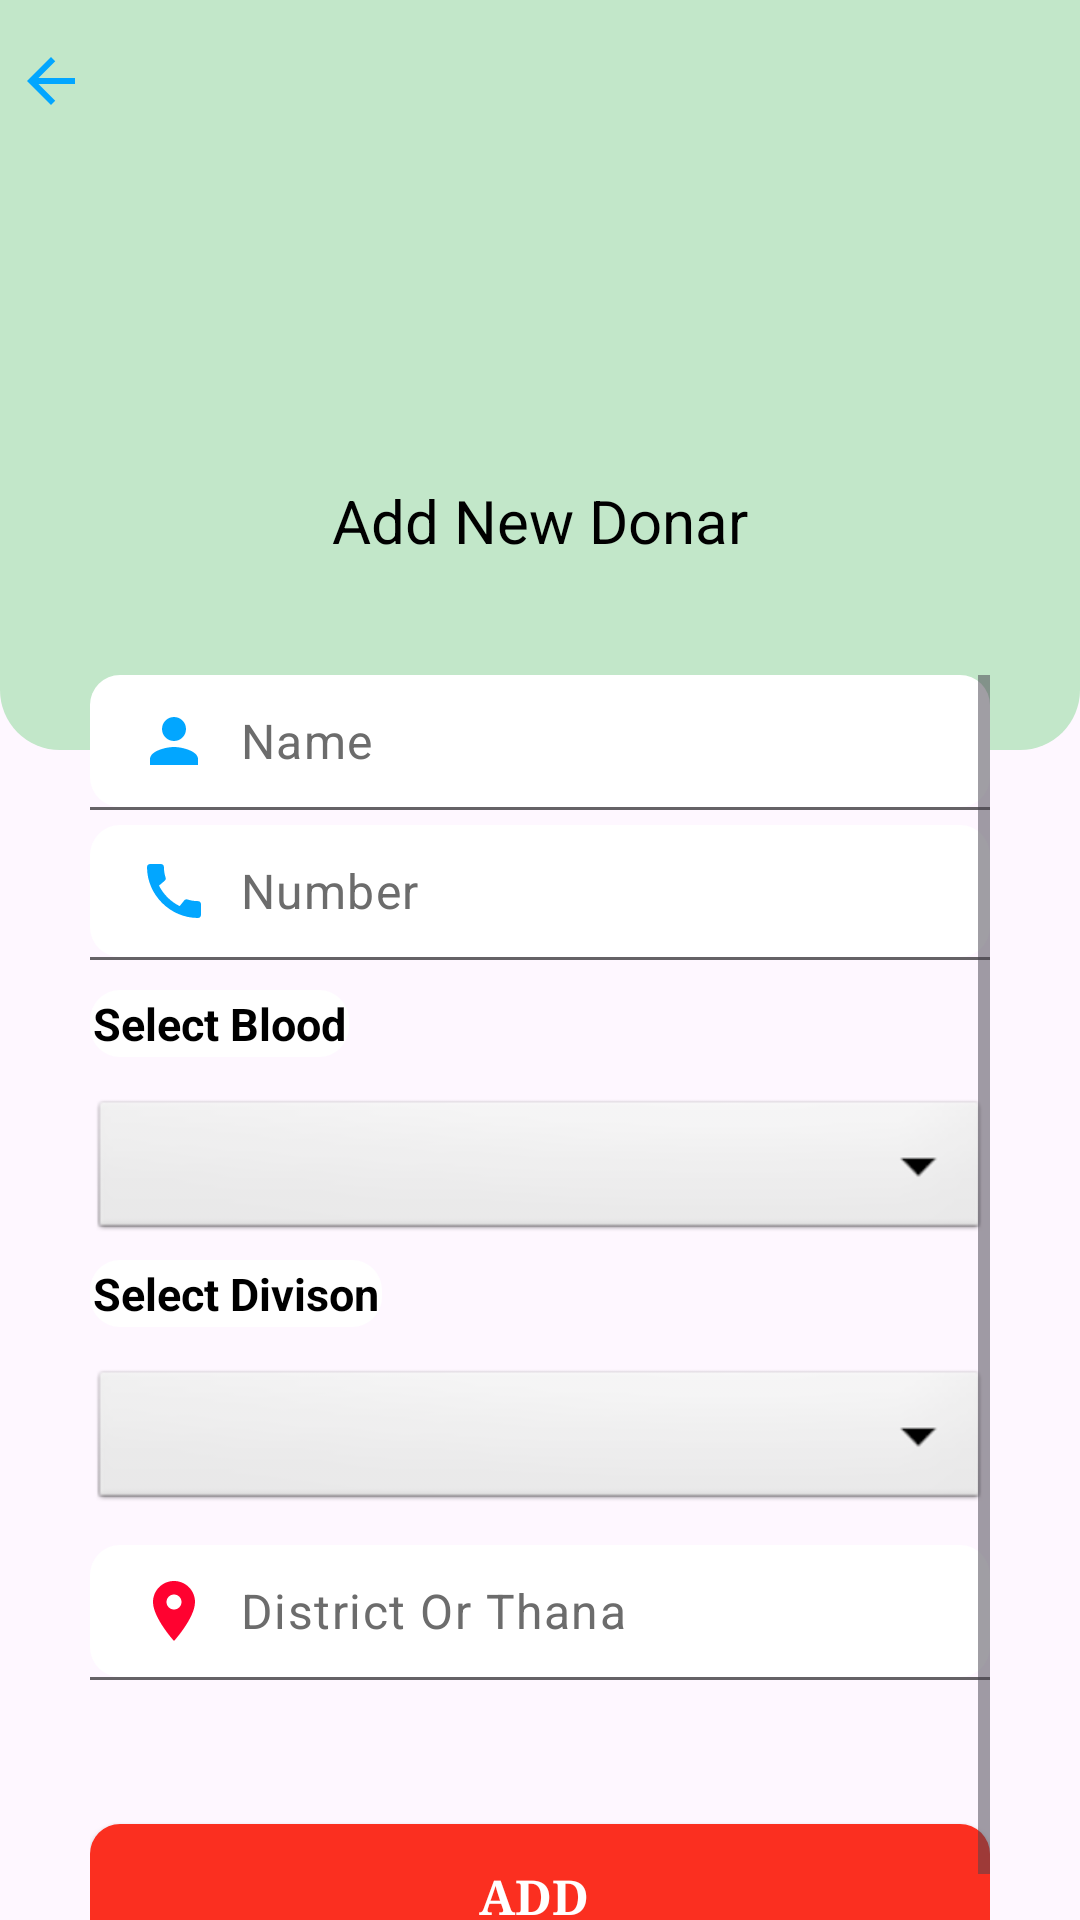

Where to tap for icons on this 1080x1920 app screen, as (x,y):
arrow back: (51,81)
